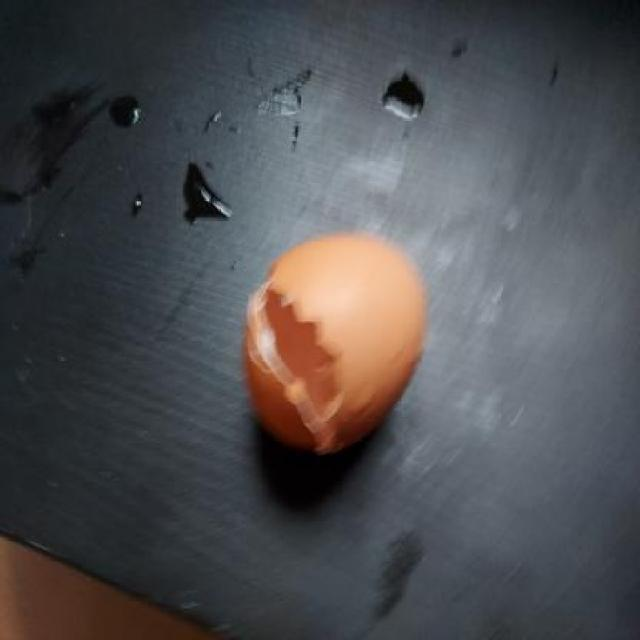biodegradable: (240, 231, 425, 457)
